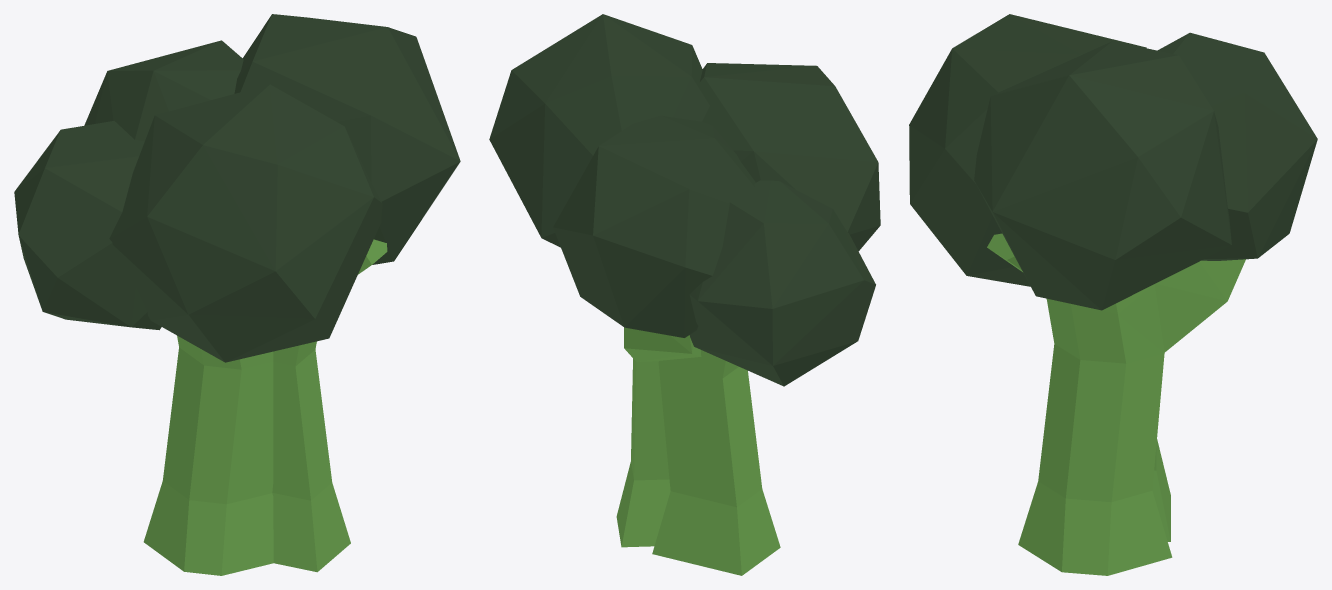
Rendered from Broccoli.glb.
3 views of the same model, side by side, from view 1: azimuth 30°, elevation 25°; view 2: azimuth 150°, elevation 25°; view 3: azimuth 270°, elevation 25° (orthographic). The views are drawn at different scales.
Visible parts, largest first — view 1: Broccoli; view 2: Broccoli; view 3: Broccoli.
Boxes of the visible parts, bbox=[...] form: Broccoli: bbox=[14, 14, 460, 575]; Broccoli: bbox=[489, 14, 880, 575]; Broccoli: bbox=[909, 14, 1317, 575].
Bounding box in the file's own units: 0.7515 × 0.8996 × 0.6444.
